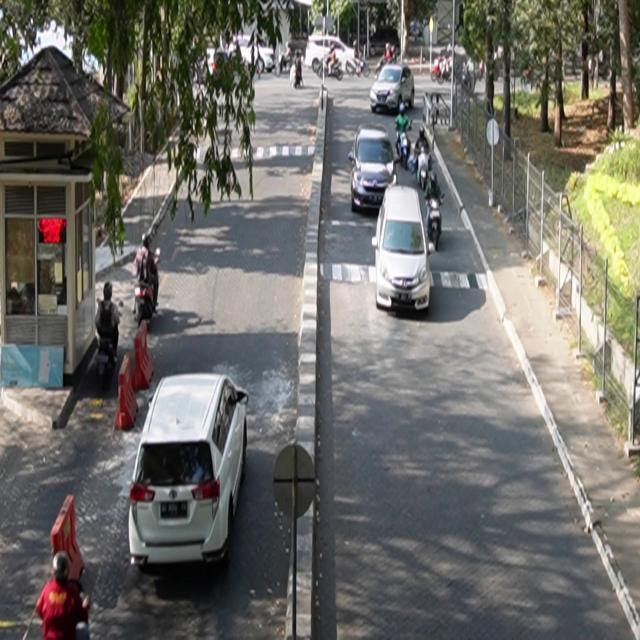car: (129, 372, 249, 570), (373, 186, 435, 314), (349, 123, 398, 213), (371, 65, 416, 115)
